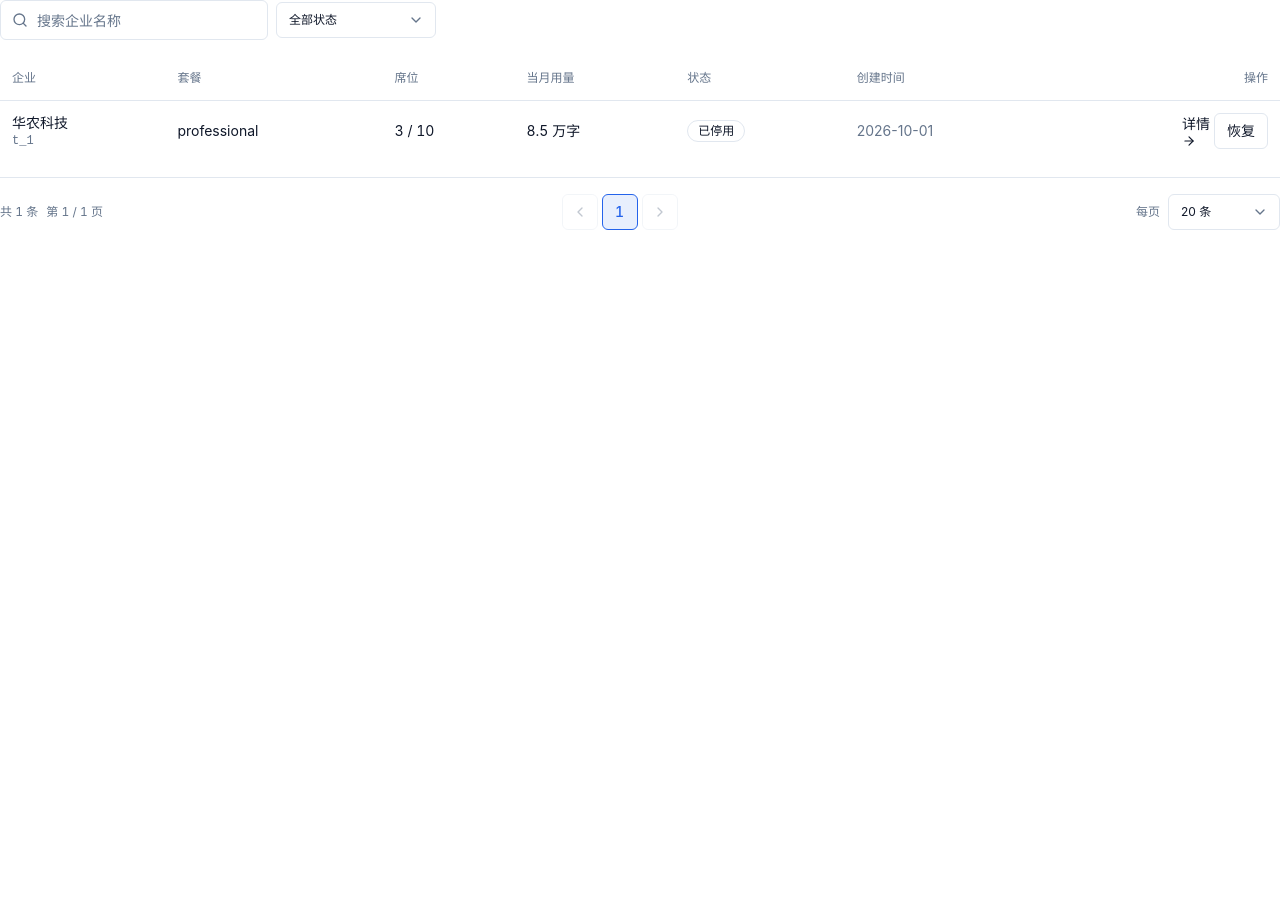
Test case: 运营-企业列表 › 已停用企业可恢复
Later steps or results of the test are not shown.
Click the button "恢复".
click(1241, 130)  # box [1214,112,1268,148]
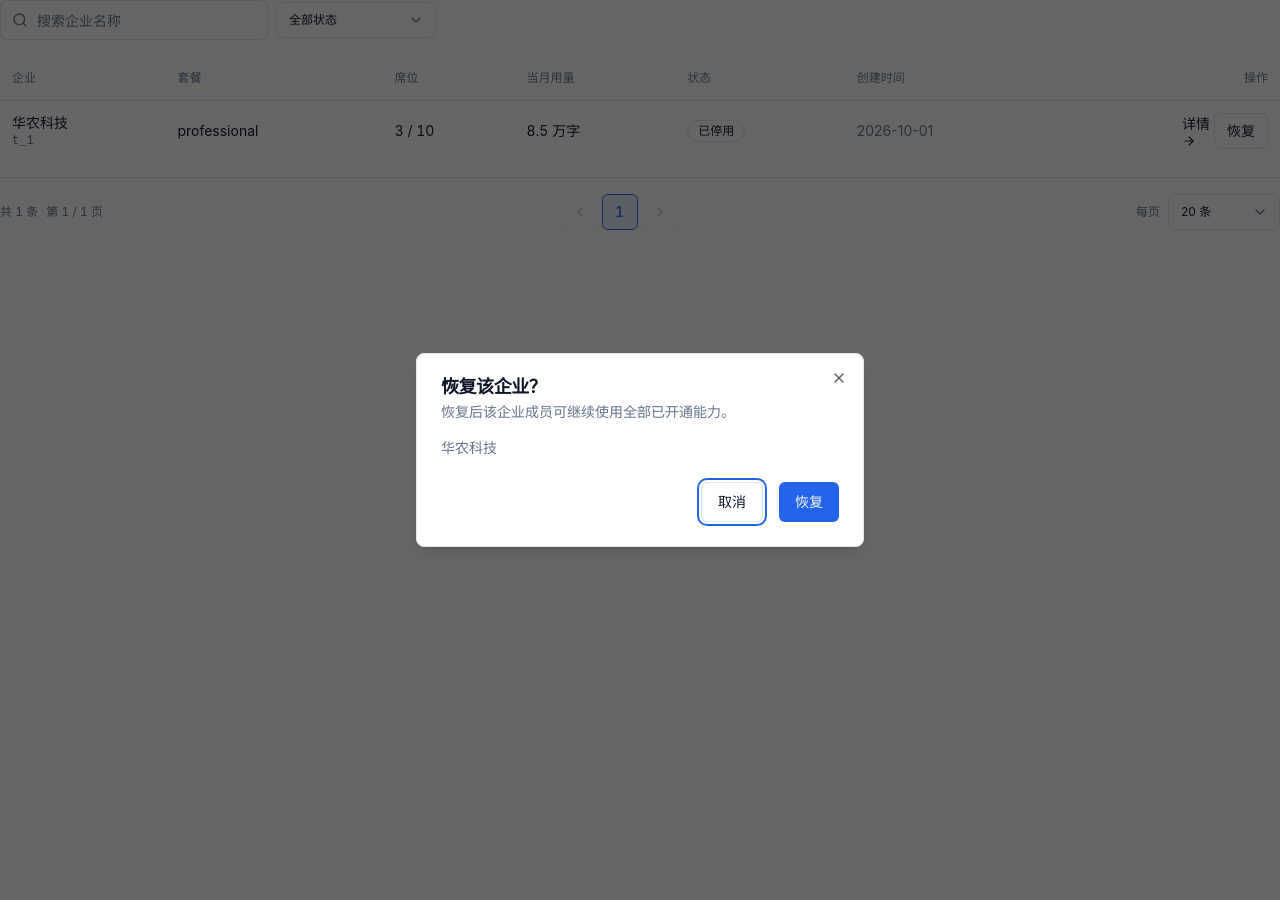
Check: the text "恢复该企业？" is shown, box [441,378,546,396]
